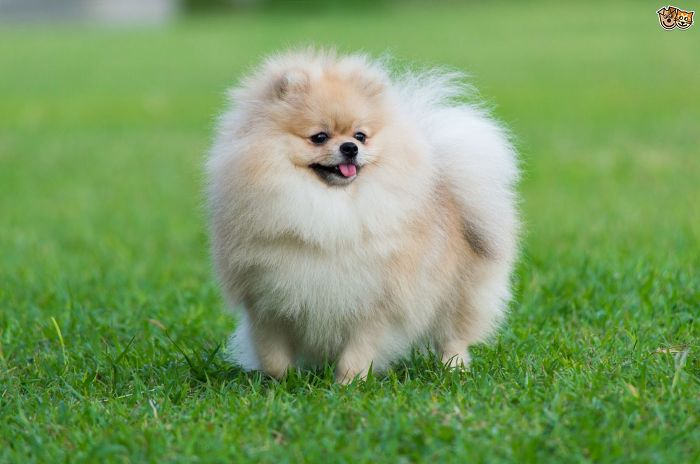pomeranian: (196, 38, 523, 392)
